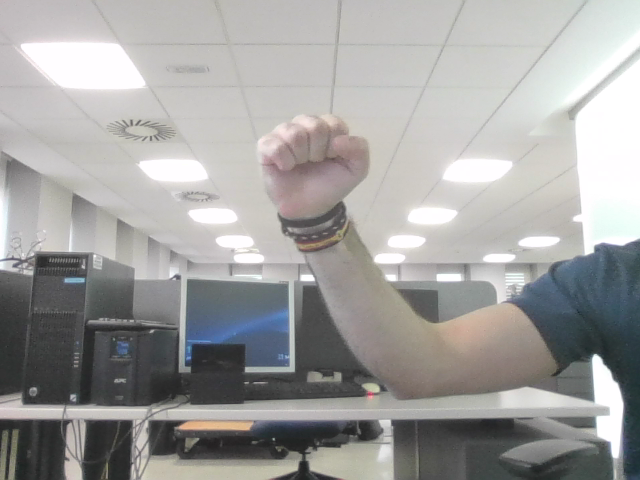Puño: (269, 123, 356, 193)
